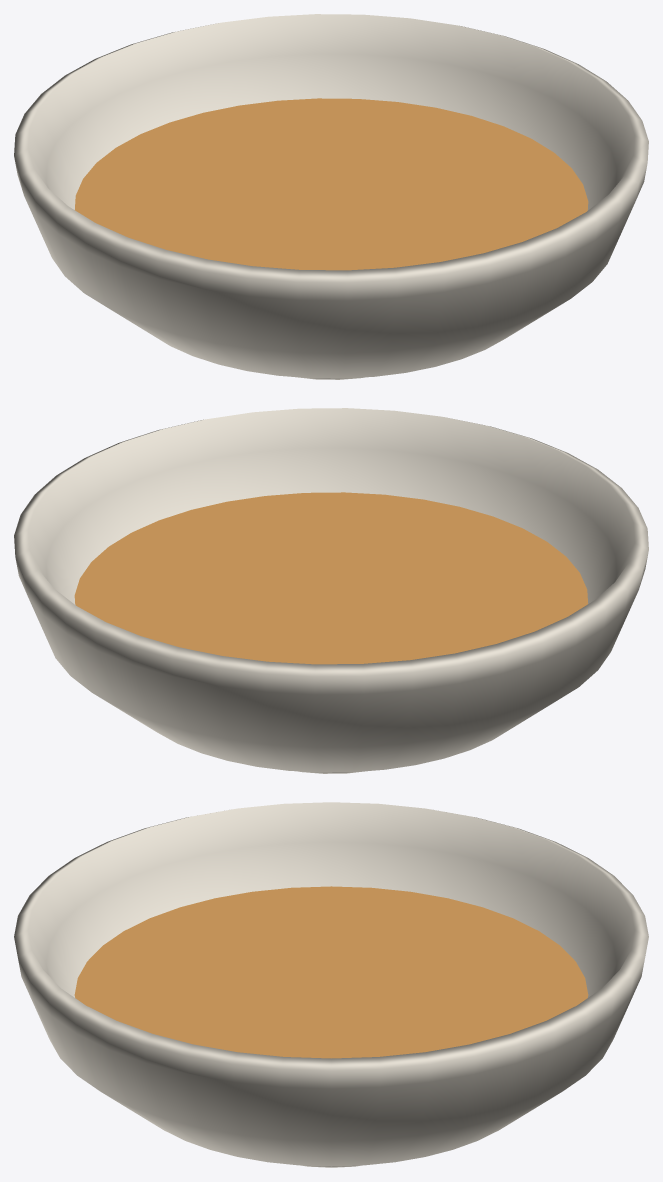
The model's file is bowl.glb.
The picture shows the model from 3 angles, top to bottom: view 1: azimuth 30°, elevation 25°; view 2: azimuth 150°, elevation 25°; view 3: azimuth 270°, elevation 25°; orthographic projection.
Visible parts, largest first — view 1: prop-bowl; view 2: prop-bowl; view 3: prop-bowl.
Part boxes in pixels (bbox=[...]): prop-bowl: bbox=[14, 14, 648, 379]; prop-bowl: bbox=[14, 408, 648, 773]; prop-bowl: bbox=[14, 802, 648, 1167].
Size of the model in its own units: 0.178 by 0.0598 by 0.178.
